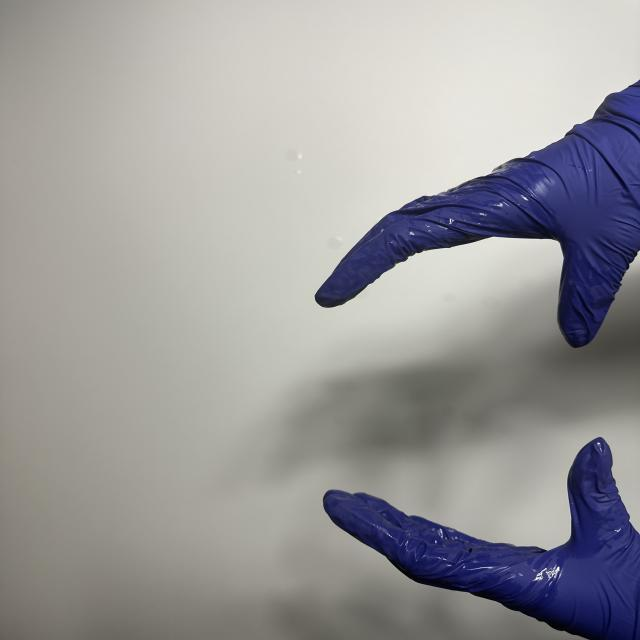gloves_contaminated: (315, 82, 640, 348), (323, 437, 640, 640)
